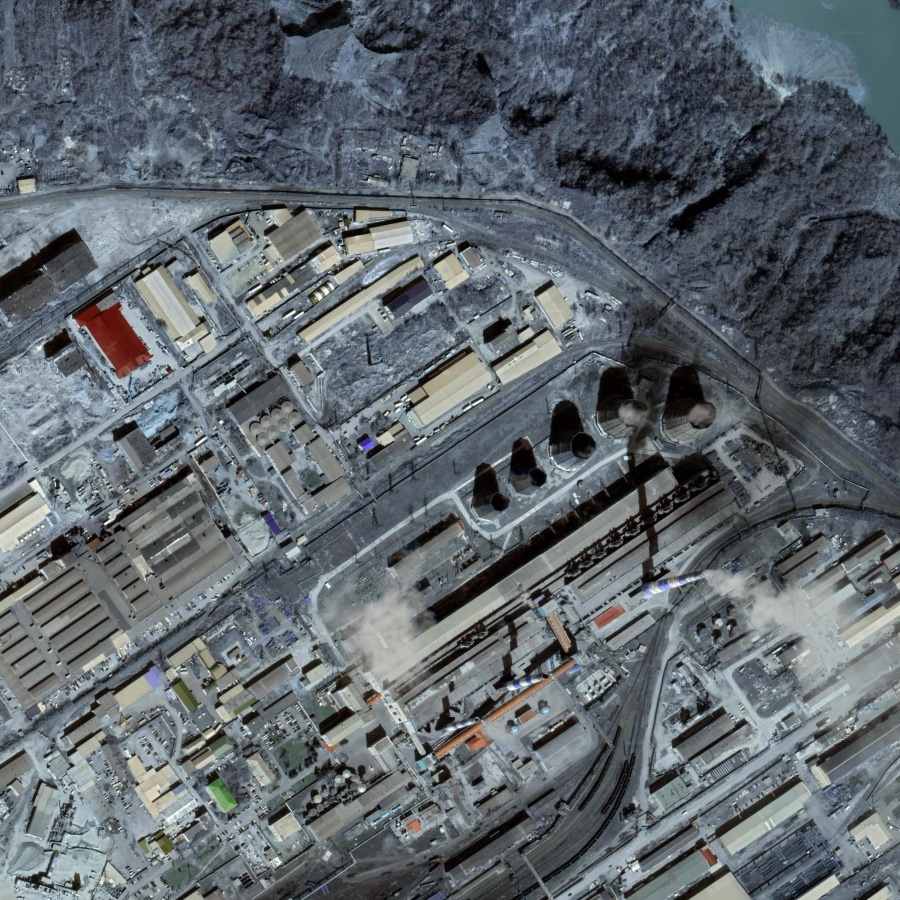PowerPlant: (373, 343, 820, 713)
